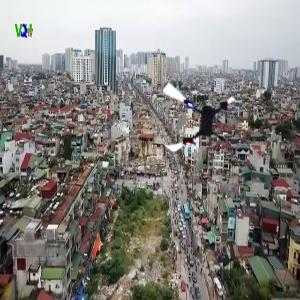drone: (150, 71, 242, 163)
